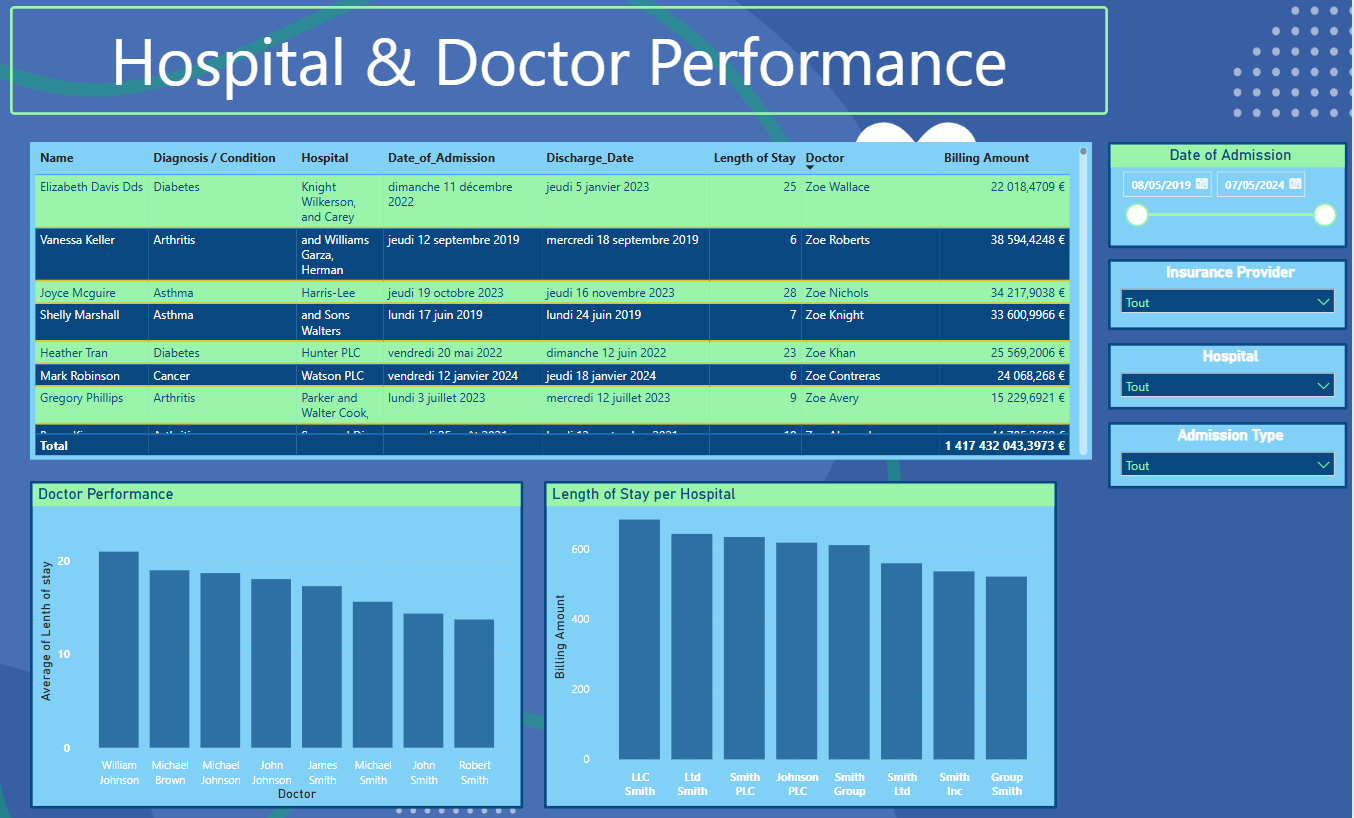

The page's visual inventory and layout, read from the dashboard file:
{"tool":"powerbi","page":{"name":"Doublon de Billing","canvas":[1503,909],"ordinal":5},"visuals":[{"type":"textbox","box":[11.4,6.9,1219.8,121.1],"z":0},{"type":"slicer","title":"Insurance Provider","fields":{"Values":["healthcare_dataset.Medical_Condition"]},"box":[1231.2,287.8,266.1,78.8],"z":1000},{"type":"slicer","title":"Hospital","fields":{"Values":["healthcare_dataset.Hospital"]},"box":[1231.2,380.9,266.1,74.2],"z":2000},{"type":"columnChart","title":"Doctor Performance","fields":{"Y":["healthcare_dataset.Length of Stay"],"Category":["healthcare_dataset.Doctor"]},"box":[33.1,534.5,548.2,364.3],"z":4000},{"type":"slicer","title":"Admission Type","fields":{"Values":["healthcare_dataset.Admission_Type"]},"box":[1231.2,469.4,266.1,74.2],"z":5000},{"type":"columnChart","title":"Length of Stay per Hospital","fields":{"Category":["healthcare_dataset.Hospital"],"Y":["healthcare_dataset.Length of Stay"]},"box":[604.2,534.5,569.9,364.3],"z":6000},{"type":"tableEx","fields":{"Values":["healthcare_dataset.Name","healthcare_dataset.Medical_Condition","healthcare_dataset.Hospital","healthcare_dataset.Date_of_Admission","healthcare_dataset.Discharge_Date","healthcare_dataset.Length of Stay","healthcare_dataset.Doctor","healthcare_dataset.Billing_Amount"]},"box":[33.1,157.6,1179.8,352.9],"z":7000},{"type":"slicer","title":"Date of Admission","fields":{"Values":["healthcare_dataset.Date_of_Admission"]},"box":[1231.2,157.6,266.1,117.6],"z":7001}]}

Visuals, with their boxes in screenshot pixels (x1, y1, x2, y2), scaled from the page's 1503x909 canvas onto the 1354x818 screenshot:
textbox: (left=10, top=6, right=1109, bottom=115)
"Insurance Provider" slicer: (left=1109, top=259, right=1349, bottom=330)
"Hospital" slicer: (left=1109, top=343, right=1349, bottom=410)
"Doctor Performance" columnChart: (left=30, top=481, right=524, bottom=809)
"Admission Type" slicer: (left=1109, top=422, right=1349, bottom=489)
"Length of Stay per Hospital" columnChart: (left=544, top=481, right=1058, bottom=809)
tableEx - healthcare_dataset.Name x healthcare_dataset.Medical_Condition: (left=30, top=142, right=1093, bottom=459)
"Date of Admission" slicer: (left=1109, top=142, right=1349, bottom=248)
